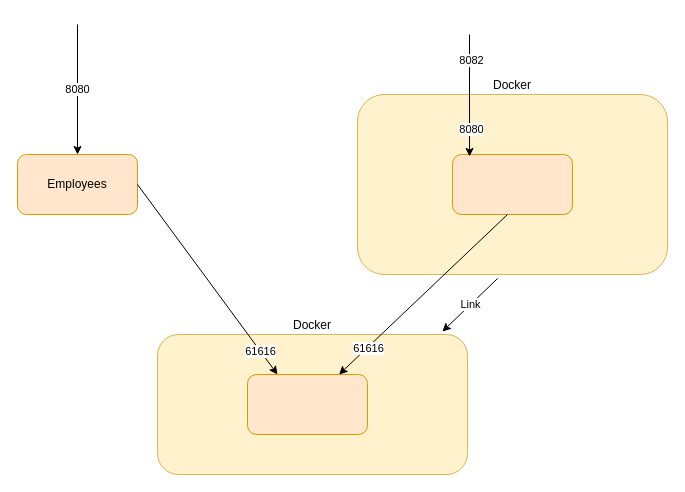
The diagram is 685 pixels wide and 492 high, and some of its shapes have lost their labels. Here are the shapes that lost their labels. From the top down, the centre of each, then its label:
At (x=512, y=184): "EventStore".
At (x=307, y=404): "ActiveMQ Artemis".
